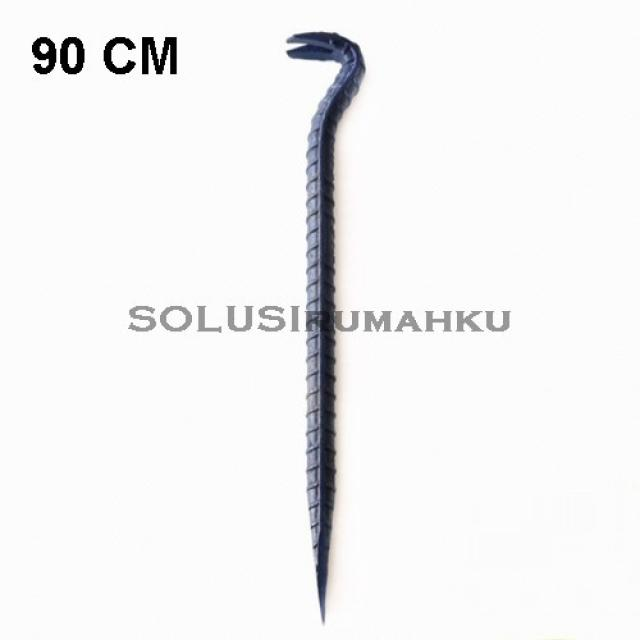Linggis: (284, 28, 367, 623)
